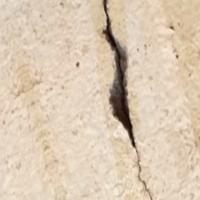crack: (84, 0, 158, 184)
